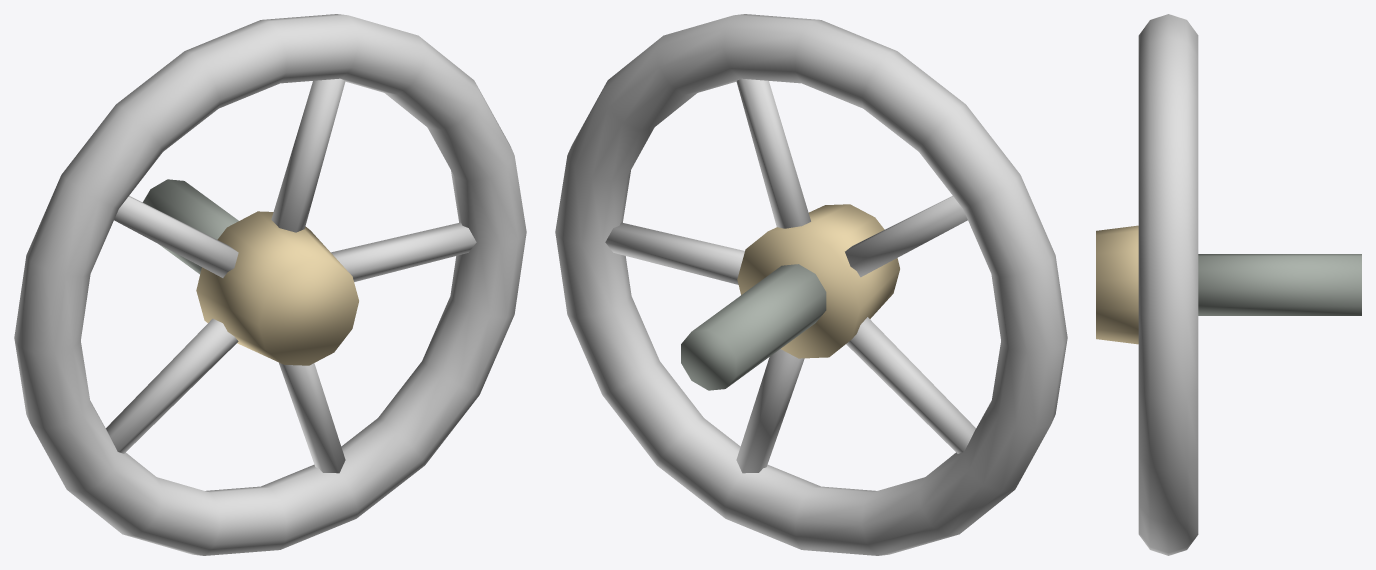
Rendered from valve-wheel.glb.
The picture shows the model from 3 angles, left to right: view 1: azimuth 30°, elevation 25°; view 2: azimuth 150°, elevation 25°; view 3: azimuth 270°, elevation 25°; orthographic projection. The views are drawn at different scales.
Parts seen in each view (by area): view 1: ValveWheel; view 2: ValveWheel; view 3: ValveWheel.
Boxes of the visible parts, <box> form: ValveWheel: <box>14,14,526,555</box>; ValveWheel: <box>555,14,1067,555</box>; ValveWheel: <box>1096,14,1361,555</box>.
Size of the model in its own units: 0.452 by 0.452 by 0.22.
